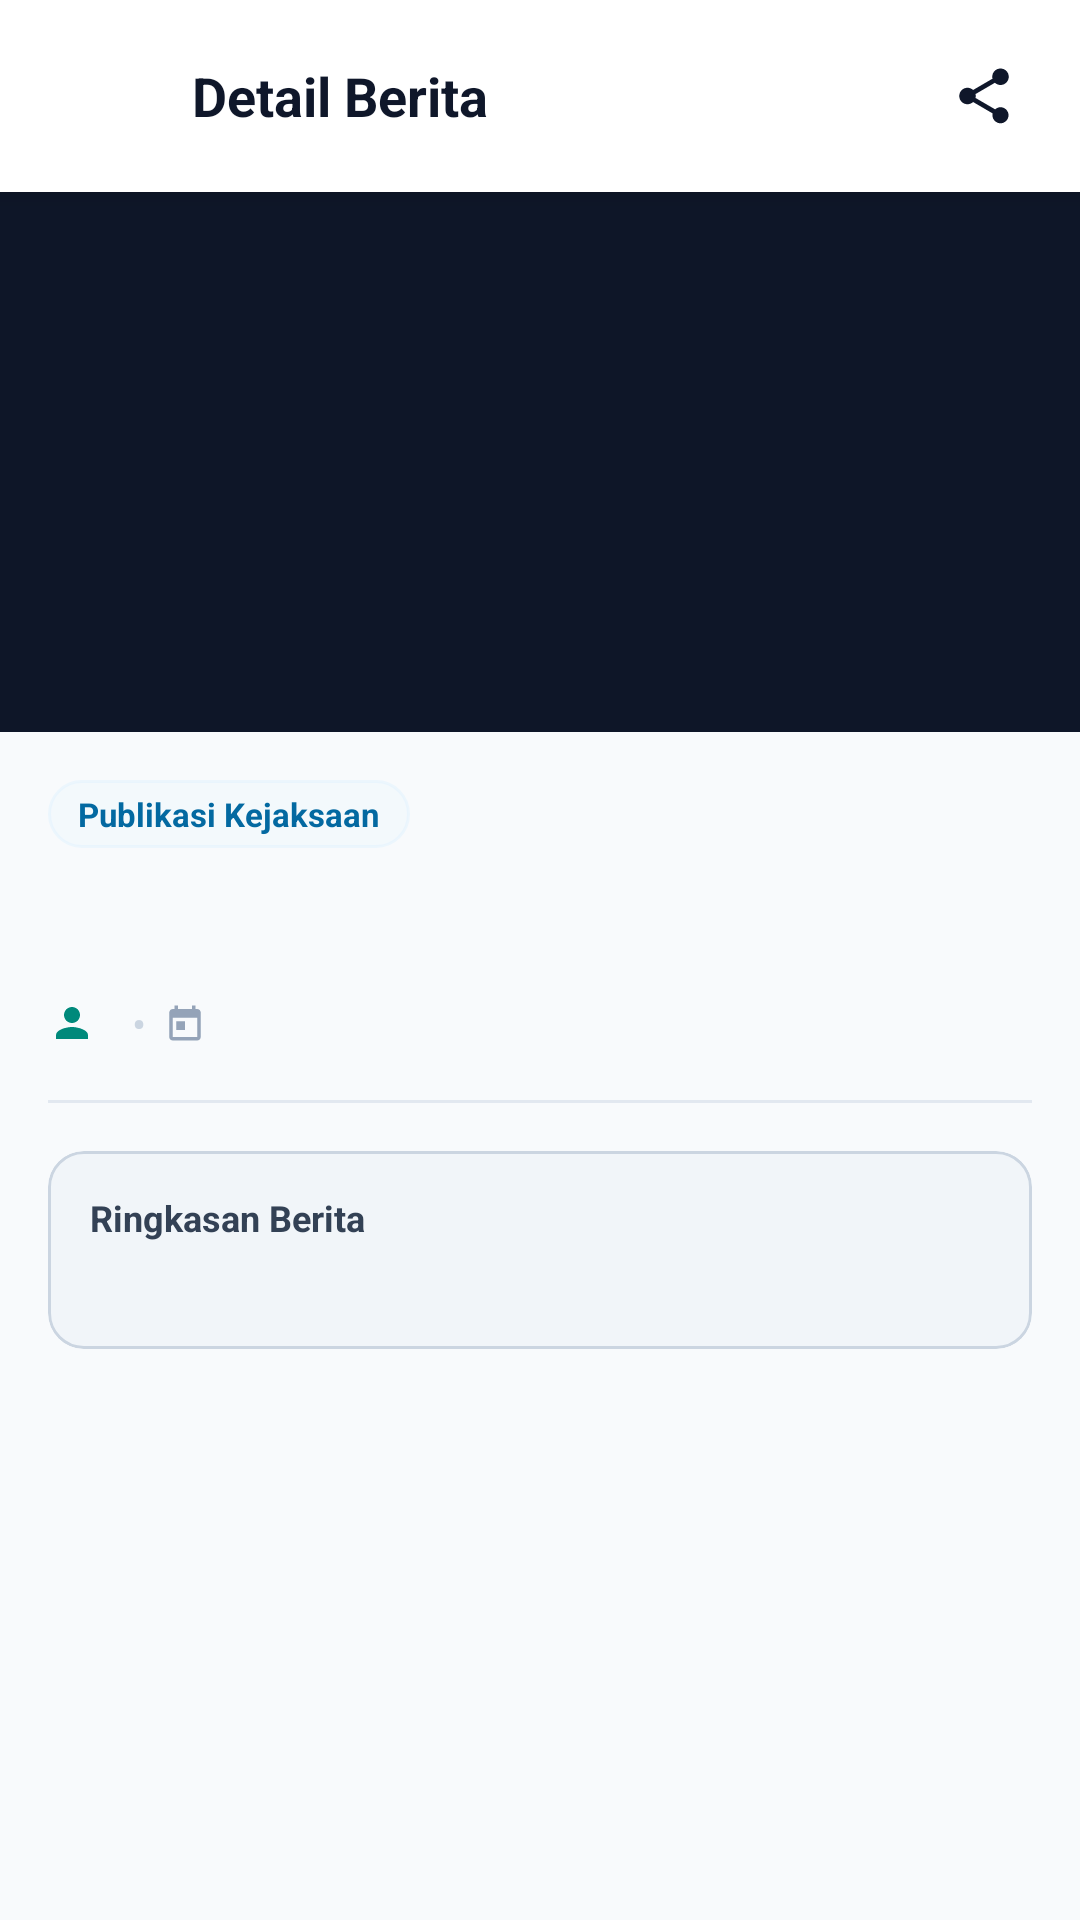

Icons on this 1080px x 1920px Android screen, each with its box as (x1,y1,x2,y2):
Bagikan Berita: (959,68,1009,124)
Penulis: (56,1007,88,1039)
Tanggal: (169,1005,201,1041)
